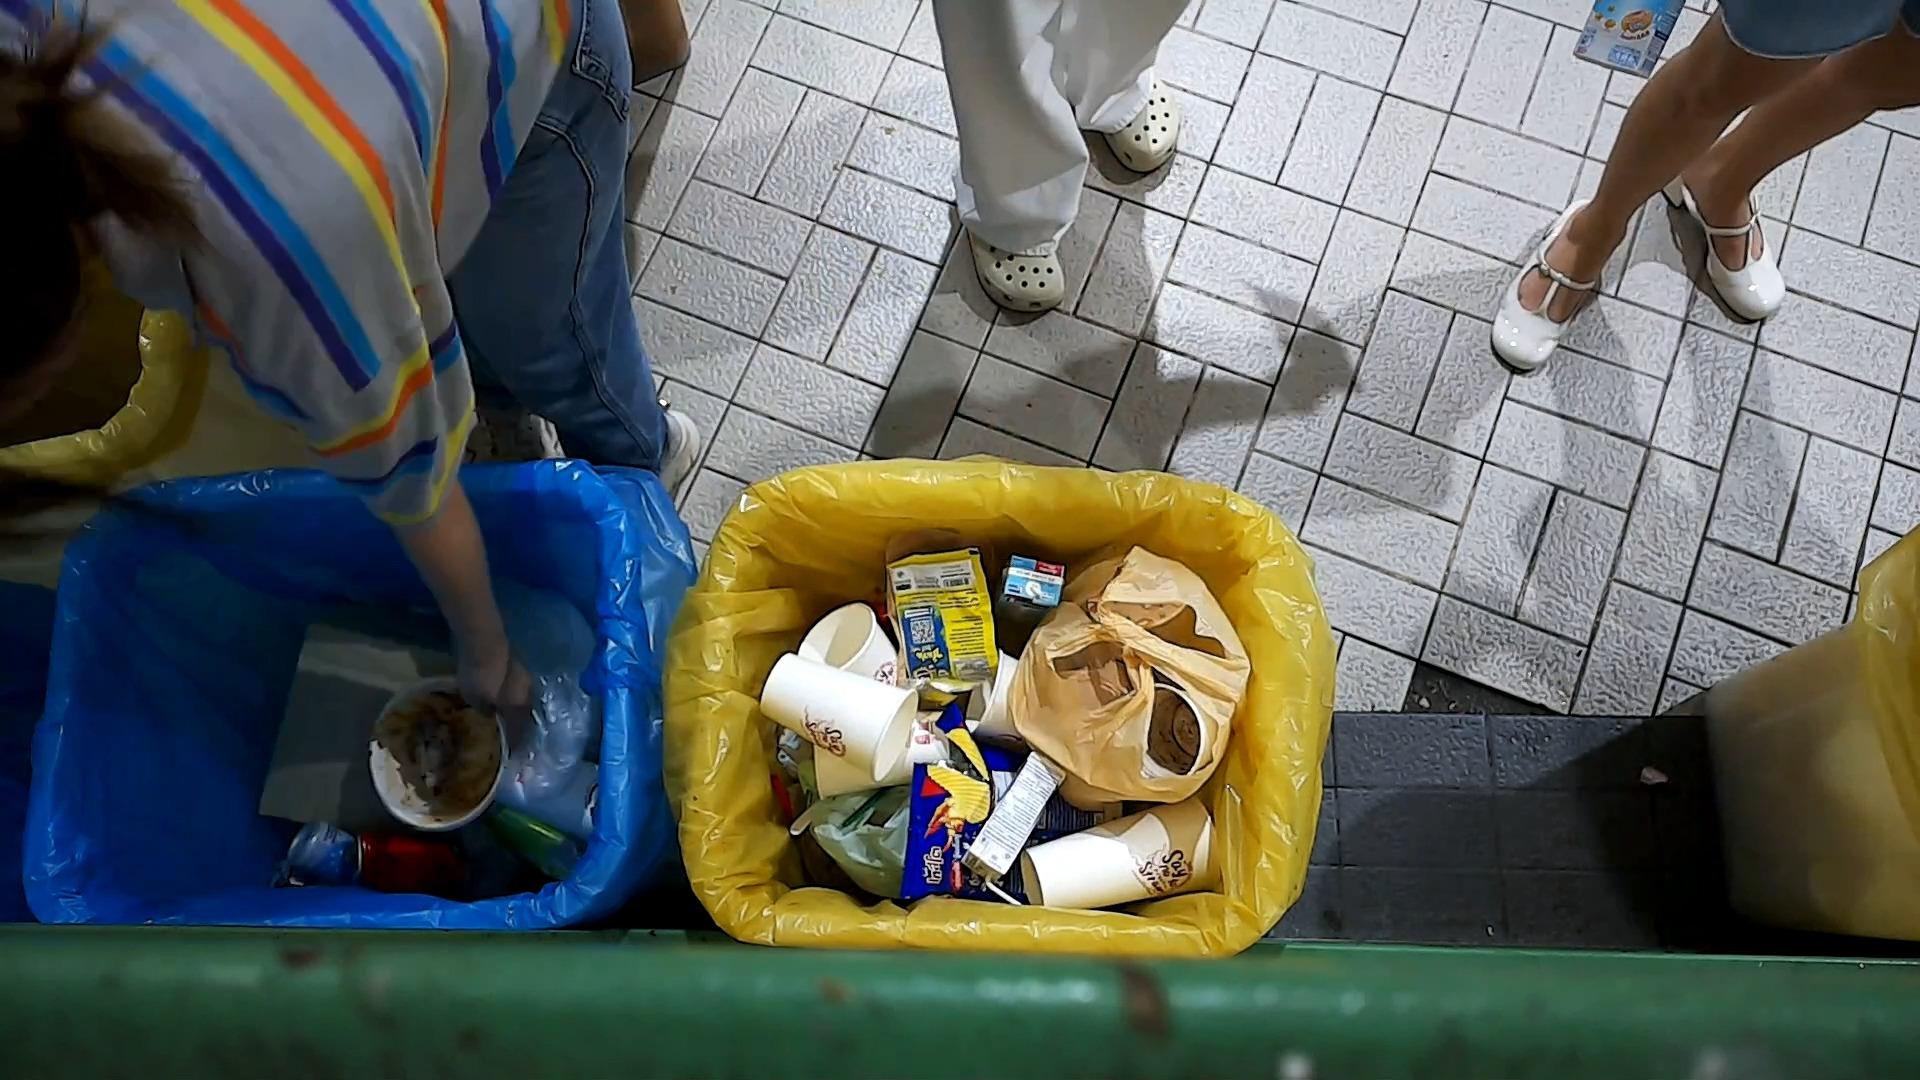can: (480, 804, 588, 884), (348, 829, 475, 891), (282, 816, 363, 889)
dirty food container: (365, 671, 513, 833)
filled plastic bag: (1006, 541, 1255, 816)
milk carton: (956, 750, 1072, 910), (1565, 0, 1691, 84), (988, 553, 1067, 630)
paper bag: (249, 612, 472, 847)
plastic bag: (510, 571, 601, 804)
snack packaging: (885, 550, 1002, 699)
zero waste cup: (1015, 795, 1226, 914), (754, 646, 919, 790), (491, 741, 600, 845)
